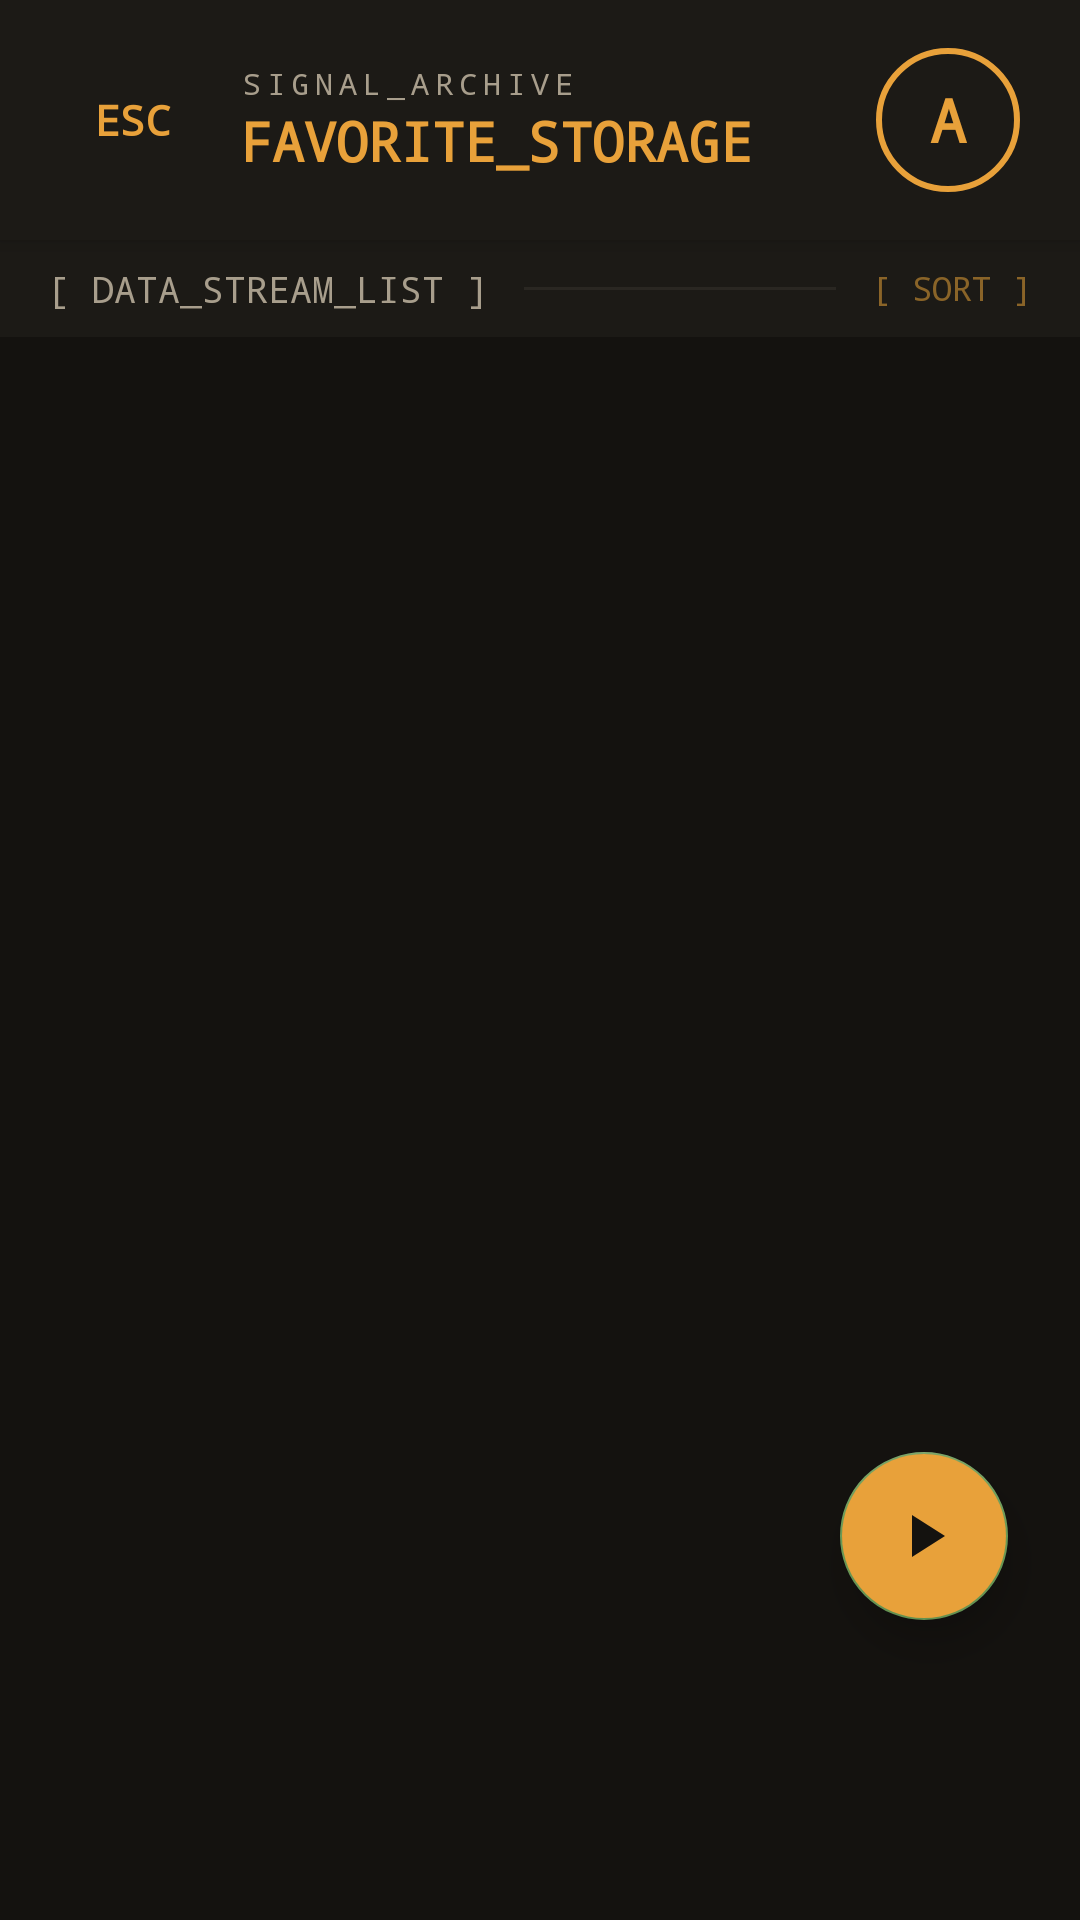

Where icons sit on this 1080*1920 app screen, as (x1, y1, x2, y2):
Graj wszystko: (840, 1452, 1008, 1620)
